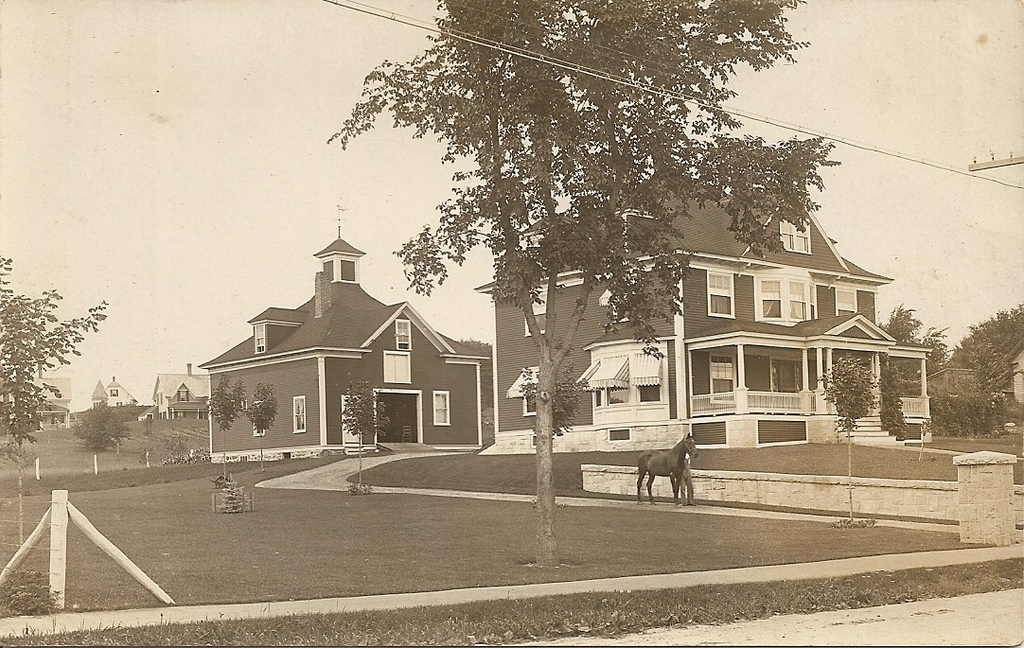horse: (635, 434, 702, 507)
